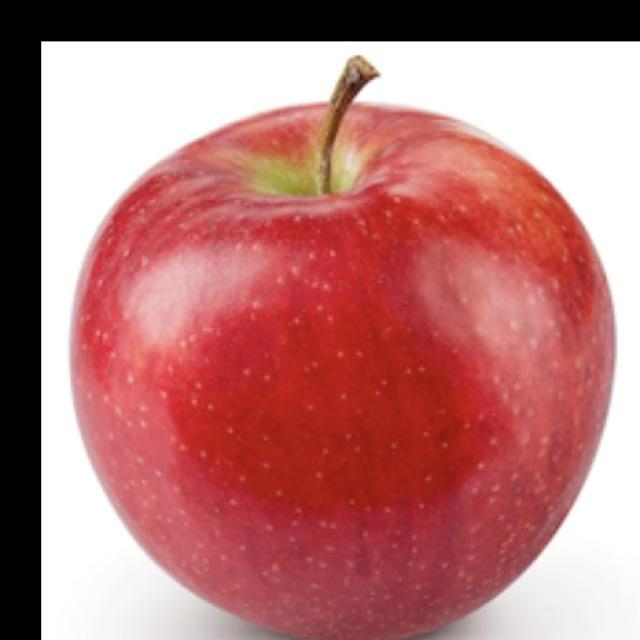Apple: (68, 54, 617, 639)
